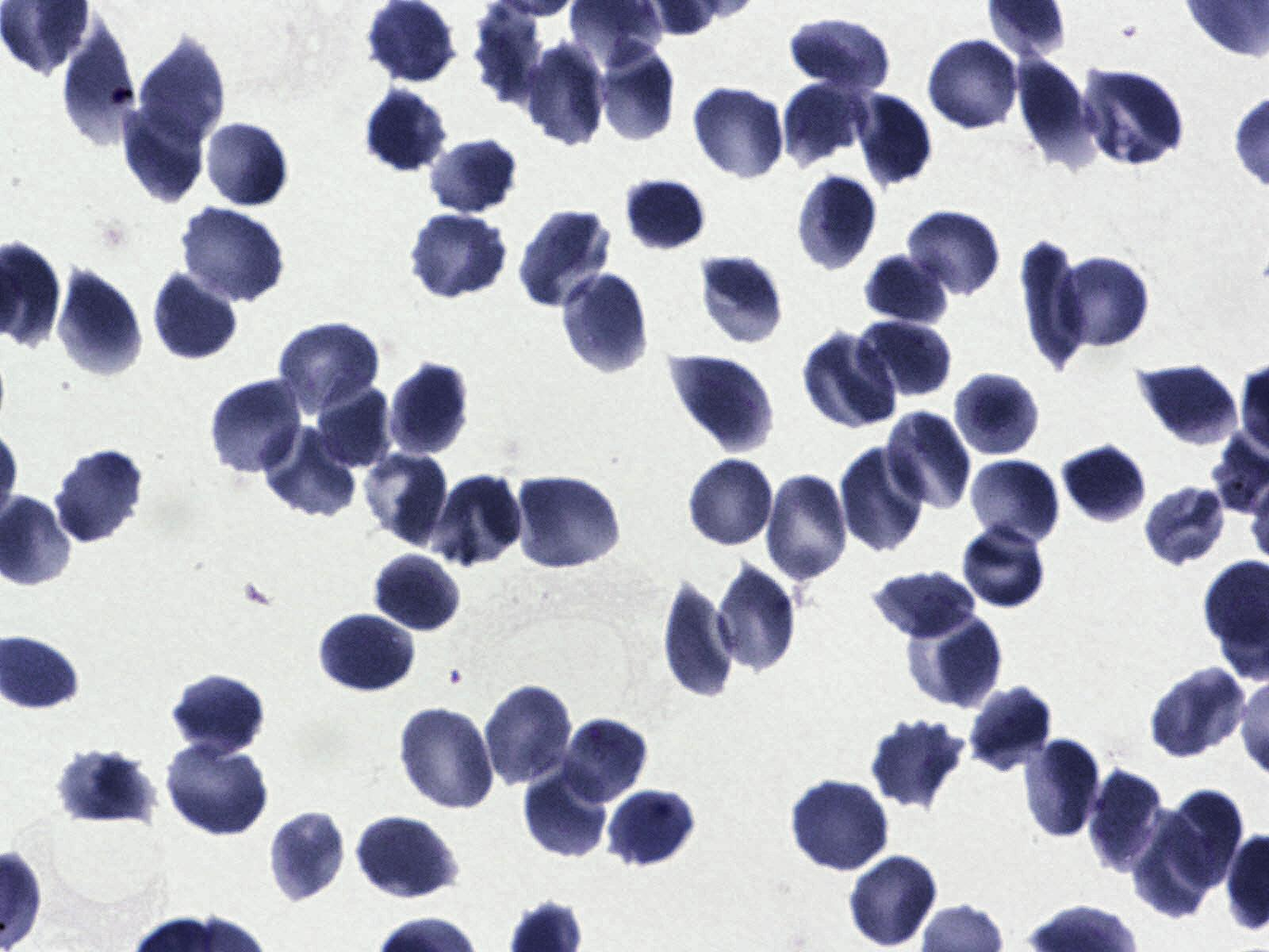Uninfected: (672, 350, 773, 452), (165, 743, 270, 839), (516, 477, 622, 572), (792, 777, 891, 875), (186, 209, 286, 305), (210, 378, 305, 478), (262, 422, 357, 521), (62, 21, 133, 153), (838, 446, 926, 552), (691, 84, 786, 182), (402, 704, 492, 807), (121, 97, 208, 203), (362, 448, 454, 548), (801, 338, 903, 428), (1085, 72, 1180, 168), (1151, 668, 1248, 762), (911, 611, 1003, 710), (716, 562, 797, 674), (564, 271, 650, 376), (142, 42, 226, 147), (1016, 50, 1094, 163), (526, 210, 615, 309), (53, 271, 138, 374), (355, 816, 457, 901), (769, 474, 847, 585), (1133, 813, 1213, 920), (283, 323, 378, 413), (1083, 766, 1160, 875), (412, 212, 508, 299), (57, 448, 144, 544), (665, 589, 742, 697), (797, 171, 880, 271), (696, 254, 784, 348), (523, 38, 600, 145), (151, 271, 240, 363), (439, 470, 524, 566), (484, 685, 569, 781), (875, 717, 964, 808), (1022, 736, 1099, 841), (1026, 239, 1085, 376), (887, 409, 970, 506), (689, 457, 776, 549), (524, 766, 611, 858), (909, 210, 1000, 297), (850, 854, 936, 945), (790, 15, 891, 92), (1059, 258, 1146, 347), (204, 120, 289, 211), (973, 457, 1062, 543), (952, 374, 1041, 459), (930, 40, 1015, 129), (853, 95, 936, 186), (1167, 792, 1242, 892), (57, 751, 155, 827), (962, 526, 1048, 612), (557, 718, 644, 803), (391, 362, 470, 455), (174, 676, 267, 755), (369, 0, 455, 85), (971, 685, 1055, 770), (1060, 444, 1145, 528), (1142, 368, 1237, 443), (323, 615, 416, 691), (1144, 485, 1231, 566), (377, 551, 459, 635), (608, 791, 696, 869), (431, 140, 519, 218), (366, 90, 448, 173), (605, 38, 673, 138), (268, 811, 341, 904), (872, 573, 973, 639), (857, 323, 950, 392), (624, 175, 707, 252), (866, 253, 950, 327), (784, 88, 861, 167), (483, 11, 545, 102), (321, 388, 389, 466)
